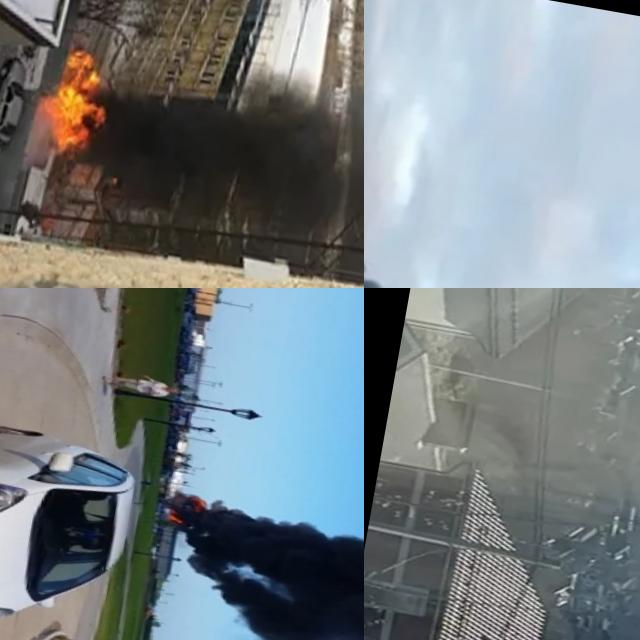smoke: (73, 56, 364, 285), (116, 472, 364, 640), (364, 171, 612, 288)
